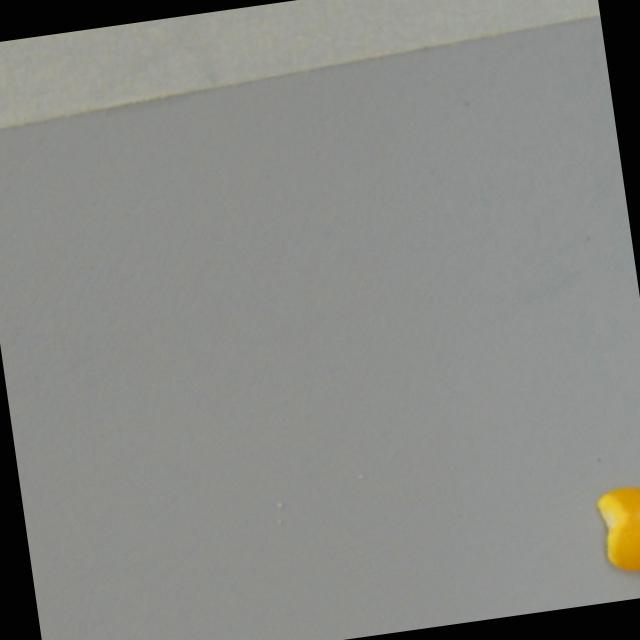no_canjicado: (574, 474, 640, 584)
